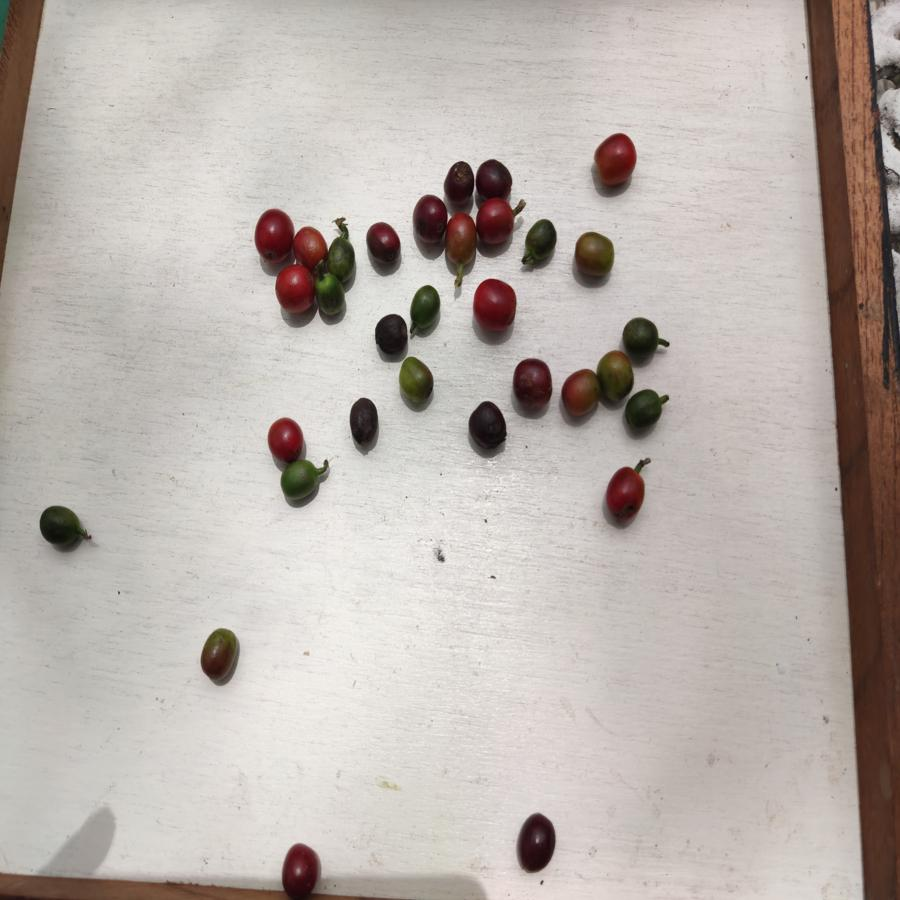Inmaduro: (37, 502, 85, 555), (625, 390, 665, 436), (407, 282, 442, 333), (281, 462, 322, 504), (314, 272, 349, 320), (624, 315, 661, 358), (525, 219, 557, 265), (329, 239, 357, 283)
Maduro: (472, 279, 519, 336), (592, 134, 641, 187), (605, 468, 648, 521), (255, 210, 295, 264), (275, 264, 314, 315), (478, 200, 516, 246), (266, 417, 305, 460), (293, 224, 327, 267)
Pinton: (198, 628, 239, 683), (573, 230, 616, 280), (561, 367, 598, 419), (445, 211, 477, 269), (598, 351, 633, 401), (398, 356, 431, 404)
Sobremaduro: (518, 812, 556, 871), (512, 356, 552, 411), (278, 843, 320, 895), (466, 401, 509, 446), (412, 195, 448, 243), (367, 221, 401, 268), (475, 160, 514, 200), (441, 159, 476, 203), (349, 397, 378, 443), (373, 313, 407, 352)
